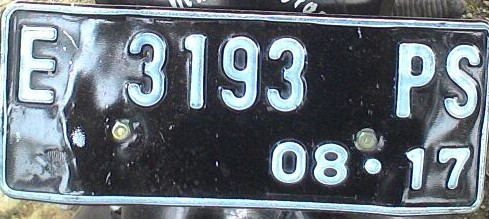plate: (2, 2, 488, 215)
